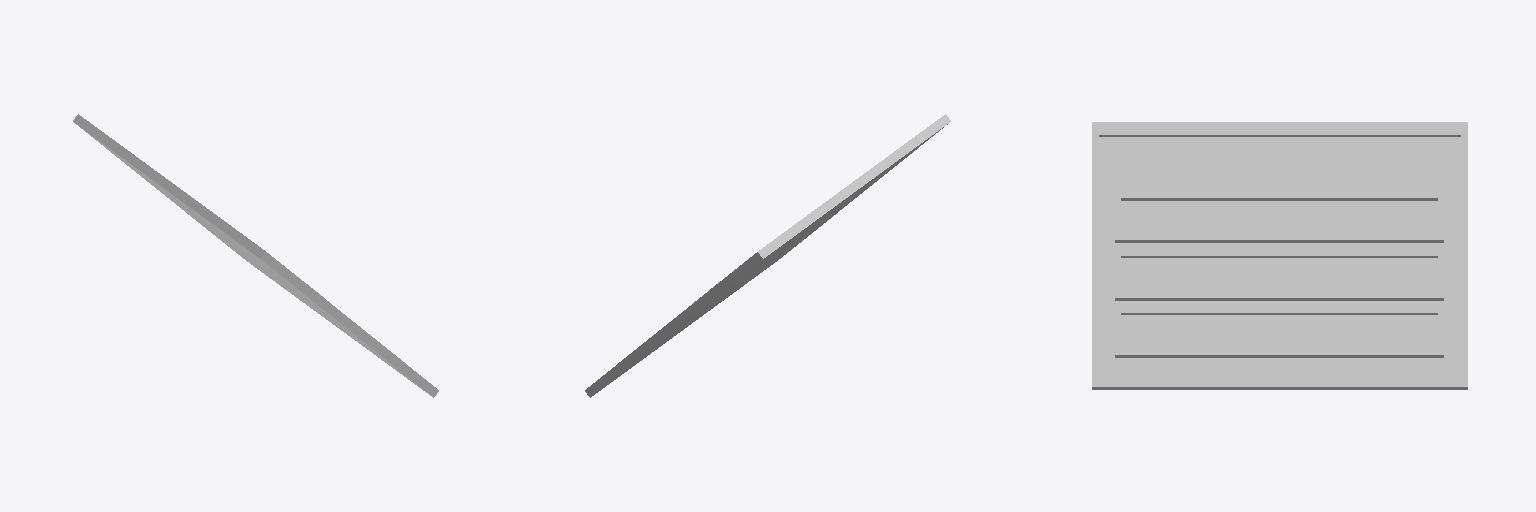
Rendered from Proto_Dial.obj.
3 renders of one model, left to right at view 1: azimuth 30°, elevation 25°; view 2: azimuth 150°, elevation 25°; view 3: azimuth 270°, elevation 25°, orthographic.
Parts seen in each view (by area): view 1: écran_Cube; view 2: écran_Cube; view 3: écran_Cube, écran.003_Cube.003, écran.001_Cube.007, écran.002_Cube.011, Livre_magiqeu.001_efef.003, Livre_magiqeu.004_efef.005.
Boxes of the visible parts, <box> form: écran_Cube: <box>73,114,438,397</box>; écran_Cube: <box>585,114,950,397</box>; écran_Cube: <box>1092,122,1467,389</box>; écran.003_Cube.003: <box>1115,196,1443,242</box>; écran.001_Cube.007: <box>1115,311,1443,357</box>; écran.002_Cube.011: <box>1115,254,1443,300</box>; Livre_magiqeu.001_efef.003: <box>1184,155,1376,182</box>; Livre_magiqeu.004_efef.005: <box>1132,270,1354,282</box>.
Bounding box in the file's own units: 0.4384 × 0.4384 × 0.8.